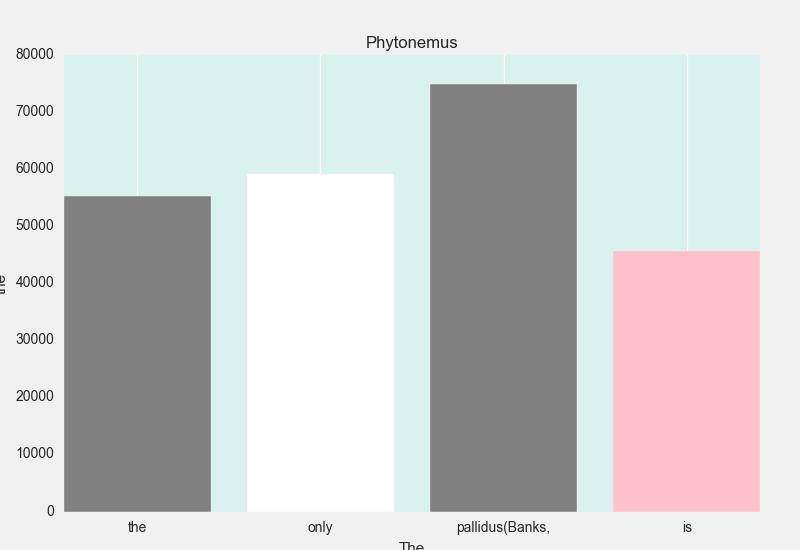axis: (0, 49, 54, 518)
rectangle: (430, 83, 577, 511), (247, 175, 394, 511), (64, 195, 211, 511), (613, 250, 760, 512)
